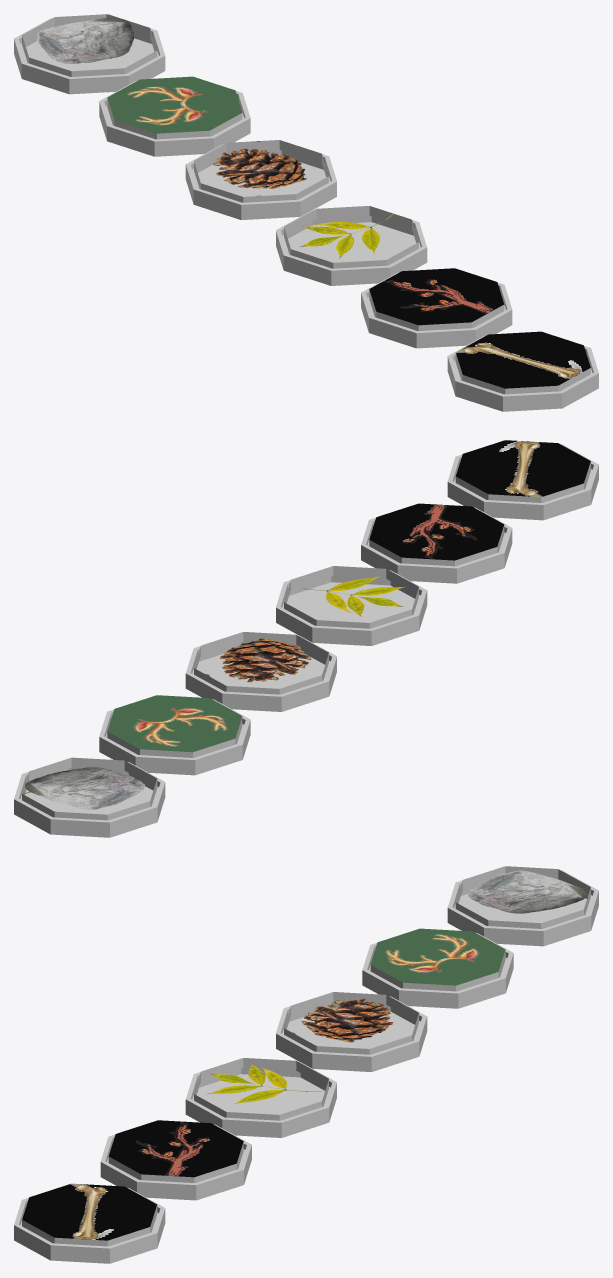
File: Pressur plates (3).fbx
3 renders of one model, top to bottom at view 1: azimuth 30°, elevation 25°; view 2: azimuth 150°, elevation 25°; view 3: azimuth 330°, elevation 25°, orthographic.
Visible parts, largest first — view 1: Cylinder, Cylinder.003, Cylinder.004, Cylinder.001, Cylinder.005, Cylinder.002; view 2: Cylinder.005, Cylinder.002, Cylinder, Cylinder.003, Cylinder.001, Cylinder.004; view 3: Cylinder, Cylinder.003, Cylinder.004, Cylinder.001, Cylinder.005, Cylinder.002.
Boxes of the visible parts, left/top/right/bottom form: Cylinder: left=447, top=331, right=598, bottom=411; Cylinder.003: left=185, top=140, right=336, bottom=219; Cylinder.004: left=99, top=76, right=250, bottom=156; Cylinder.001: left=361, top=268, right=512, bottom=348; Cylinder.005: left=14, top=14, right=165, bottom=94; Cylinder.002: left=276, top=206, right=427, bottom=285; Cylinder.005: left=14, top=757, right=165, bottom=837; Cylinder.002: left=276, top=566, right=427, bottom=645; Cylinder: left=447, top=440, right=598, bottom=520; Cylinder.003: left=185, top=632, right=336, bottom=711; Cylinder.001: left=361, top=503, right=512, bottom=583; Cylinder.004: left=99, top=695, right=250, bottom=775; Cylinder: left=14, top=1183, right=165, bottom=1263; Cylinder.003: left=276, top=992, right=427, bottom=1071; Cylinder.004: left=362, top=928, right=513, bottom=1008; Cylinder.001: left=100, top=1120, right=251, bottom=1200; Cylinder.005: left=447, top=866, right=598, bottom=946; Cylinder.002: left=185, top=1058, right=336, bottom=1137.
Size of the model in its own units: 200 by 27.79 by 1307.
Materials: 7 (6 with a texture image).
